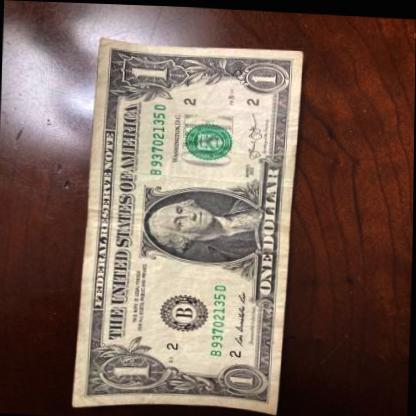one-front: (71, 37, 303, 416)
